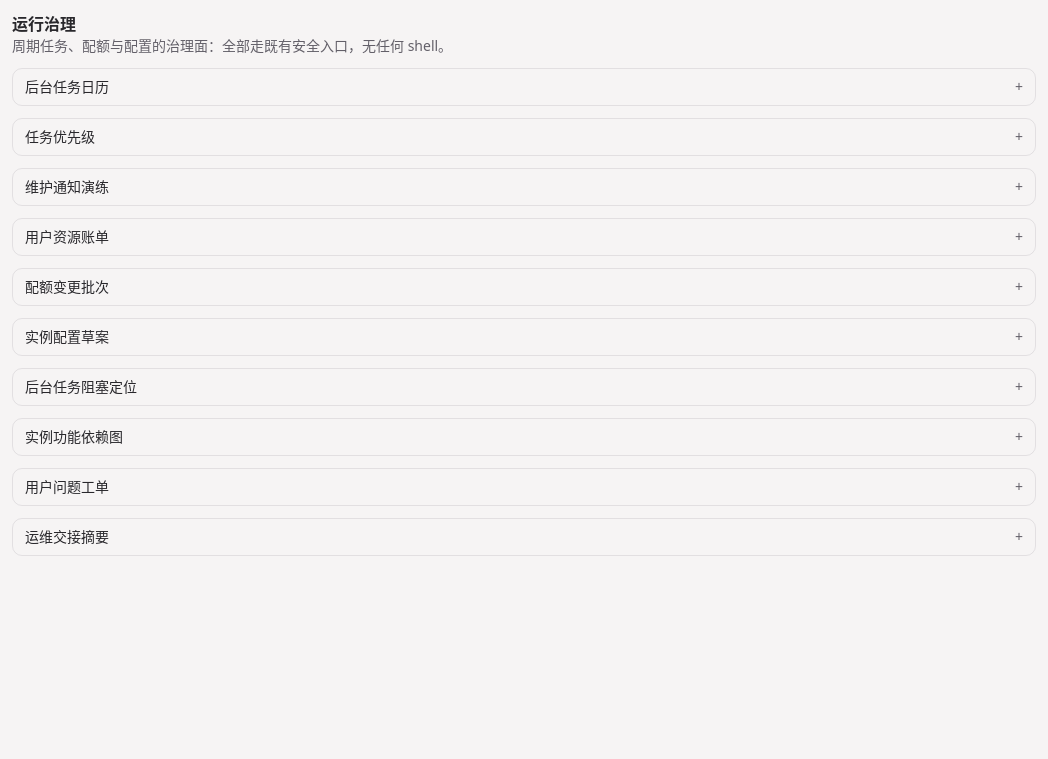
Test: NEW-371..380 运行治理中心（Web 入口） › 我的资源账单：只有计数与字节，带诚实边界说明
The width and height of the screenshot is (1048, 759).
Click the button "用户资源账单 +": coordinates (67, 236) [13,219,1035,255]
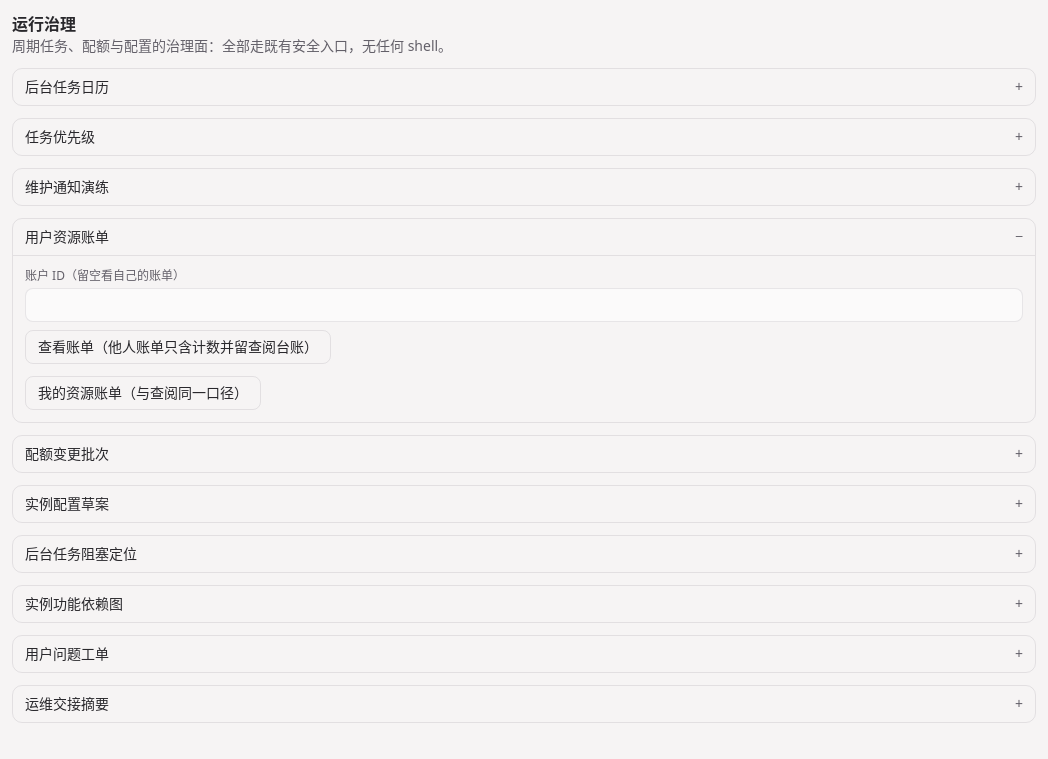
Click the button "我的资源账单（与查阅同一口径）": coordinates (143, 393) [25,376,261,410]
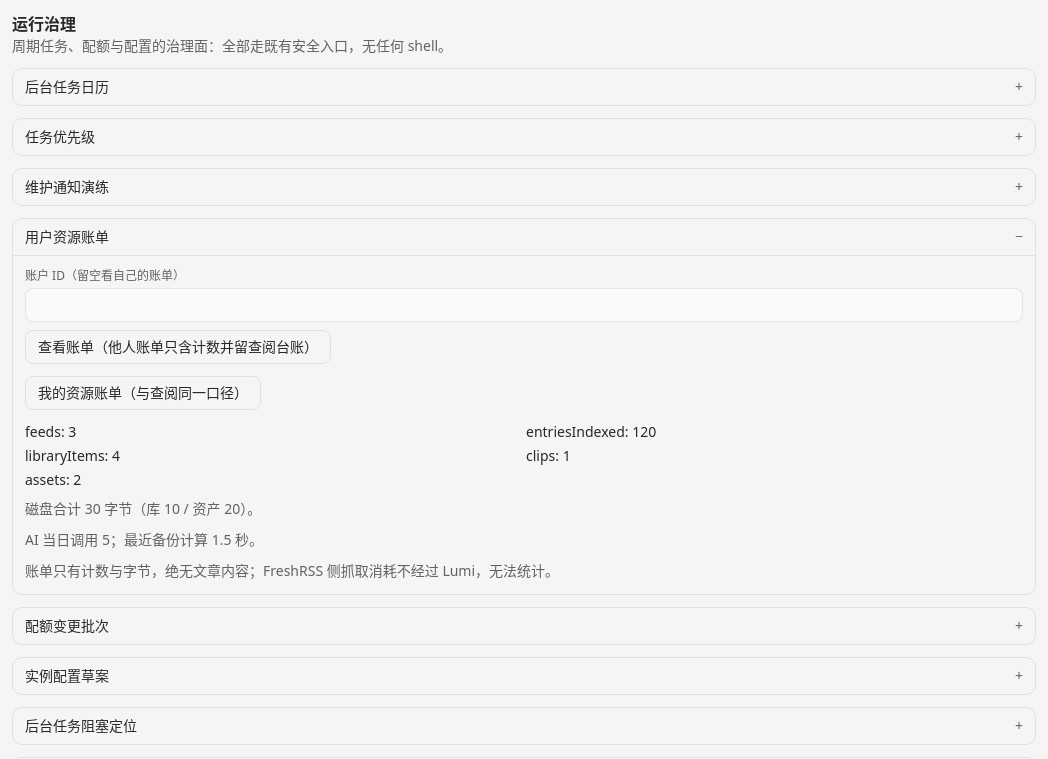
expect the text "磁盘合计 30 字节（库 10 / 资产 20）。" is shown: met, box [25,499,261,518]
expect the text "账单只有计数与字节，绝无文章内容；FreshRSS 侧抓取消耗不经过 Lumi，无法统计。" is shown: met, box [25,560,559,580]
